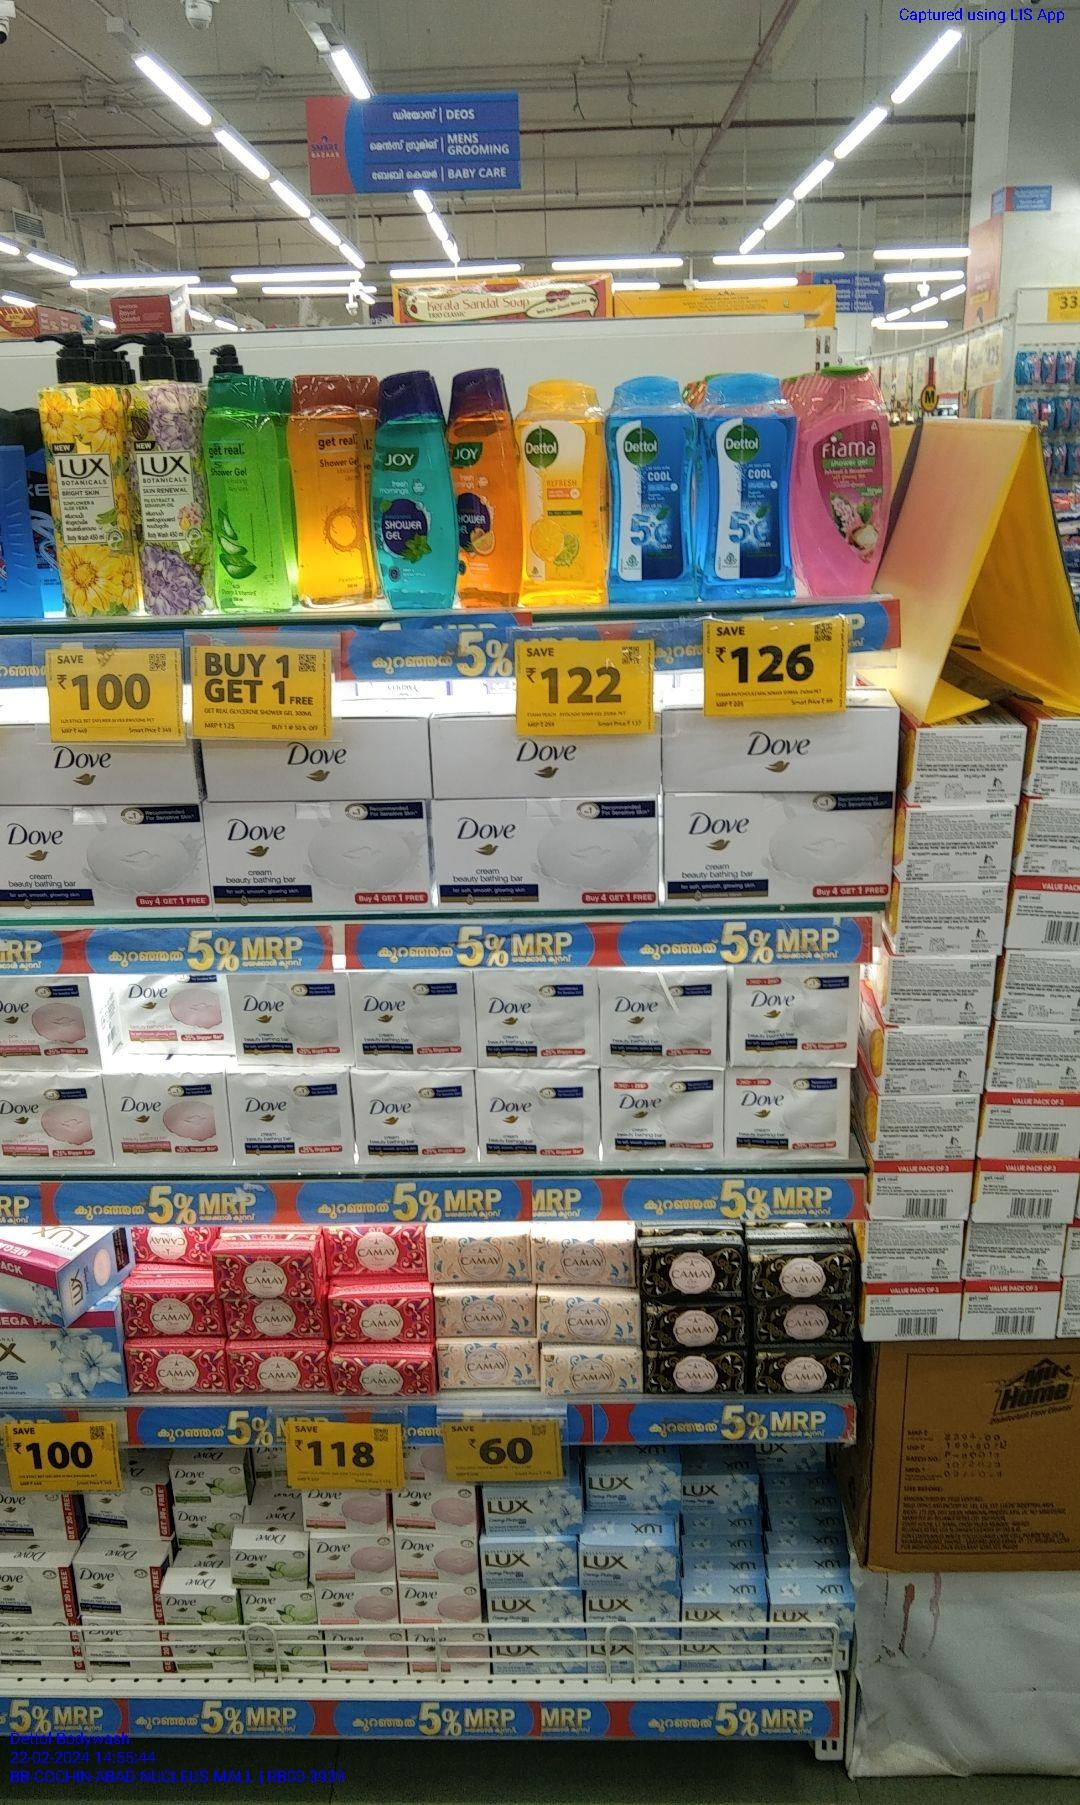Dettol_Bodywash_Cool: (613, 372, 701, 607), (705, 373, 787, 603)
Dettol_Bodywash_Refresh: (522, 369, 611, 613)
Fiama_Shower_Gel_Patchouli_and_Macadamia_250ML: (797, 364, 878, 595)
Get_Real_Shower_Gel_Moisturising_Glycerin_300ML: (291, 373, 370, 618)
Joy_Shower_Gel_Mandarin_and_Lemongrass_250ML: (458, 365, 521, 616)
Joy_Shower_Gel_Mint_and_Eucalyptus_250ML: (373, 375, 456, 617)
